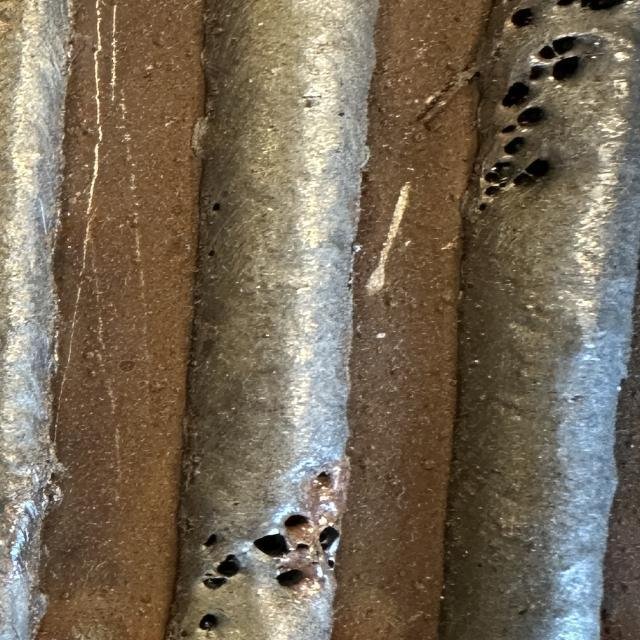Spatters: (551, 57, 583, 83), (528, 155, 560, 180), (486, 158, 515, 184), (517, 107, 551, 128), (274, 568, 308, 589), (258, 537, 288, 558), (513, 5, 538, 29), (503, 84, 531, 105), (284, 511, 309, 532), (552, 34, 578, 54), (578, 2, 633, 11), (535, 44, 560, 61), (473, 199, 492, 219), (218, 559, 239, 576), (506, 136, 527, 153), (200, 615, 218, 633), (526, 65, 545, 80), (324, 533, 340, 550), (205, 533, 218, 553), (206, 573, 224, 586), (292, 542, 308, 554)
